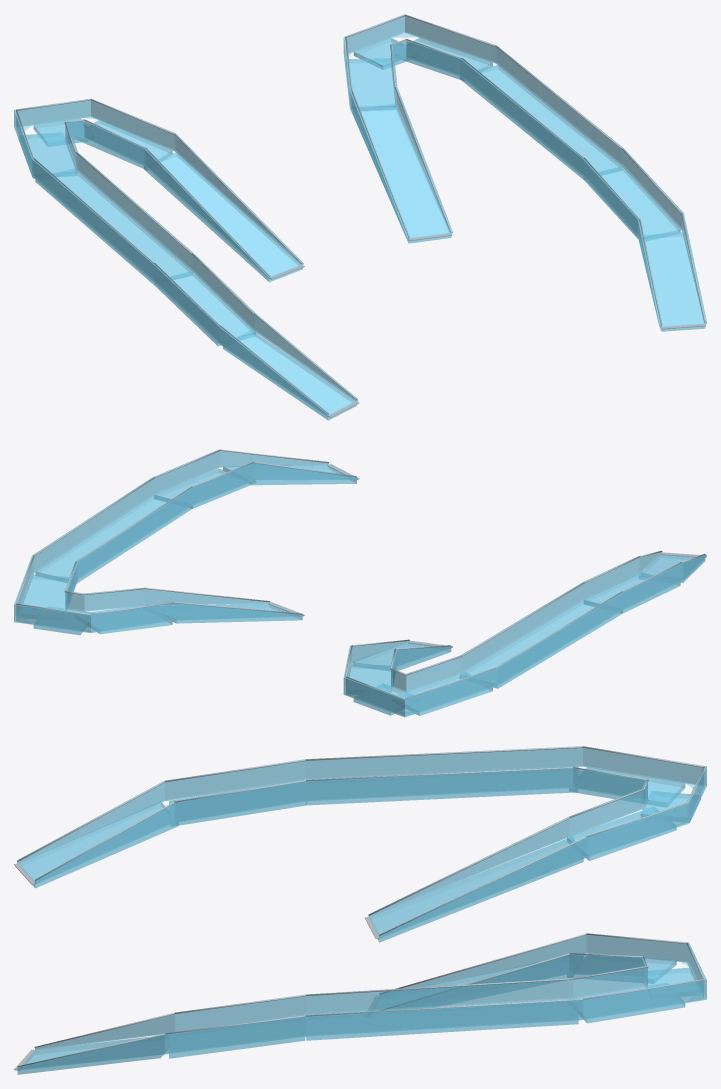
File: Space_Ramps.glb
The picture shows the model from 3 angles, top to bottom: view 1: azimuth 30°, elevation 25°; view 2: azimuth 150°, elevation 25°; view 3: azimuth 270°, elevation 25°; orthographic projection. The views are drawn at different scales.
Visible parts, largest first — view 1: Ramp_ramp_l, Ramp_ramp_r, Deco_RampEdgeBeads; view 2: Ramp_ramp_r, Ramp_ramp_l, Deco_RampEdgeBeads, Deco_EntranceFlaps; view 3: Ramp_ramp_l, Ramp_ramp_r, Deco_RampEdgeBeads, Deco_EntranceFlaps.
Boxes of the visible parts, box(x1,y1,x2,y2) form: Ramp_ramp_l: box(14, 98, 357, 420); Ramp_ramp_r: box(343, 14, 706, 331); Deco_RampEdgeBeads: box(16, 15, 705, 413); Ramp_ramp_r: box(14, 449, 357, 635); Ramp_ramp_l: box(343, 552, 706, 717); Deco_RampEdgeBeads: box(16, 449, 705, 699); Deco_EntranceFlaps: box(268, 464, 705, 648); Ramp_ramp_l: box(17, 746, 706, 942); Ramp_ramp_r: box(17, 933, 706, 1074); Deco_RampEdgeBeads: box(17, 746, 704, 1067); Deco_EntranceFlaps: box(14, 863, 380, 1070).
Size of the model in its own units: 0.628 by 0.1123 by 0.7127.
